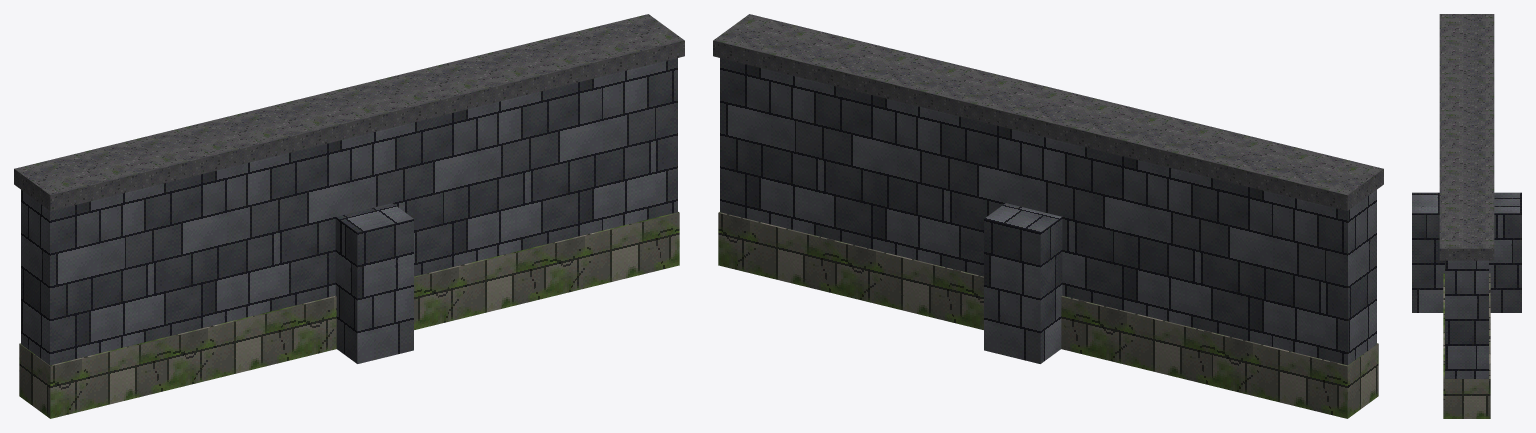
File: muro_piedra.obj
3 views of the same model, side by side, from view 1: azimuth 30°, elevation 25°; view 2: azimuth 150°, elevation 25°; view 3: azimuth 270°, elevation 25° (orthographic). The views are drawn at different scales.
Visible parts, largest first — view 1: muro_piedra; view 2: muro_piedra; view 3: muro_piedra.
Part boxes in pixels (left/top/right/bottom): muro_piedra: left=14, top=14, right=684, bottom=418; muro_piedra: left=713, top=14, right=1383, bottom=418; muro_piedra: left=1412, top=14, right=1521, bottom=418.
Bounding box in the file's own units: 10.1 × 3.44 × 2.
Materials: 3 (3 with a texture image).
